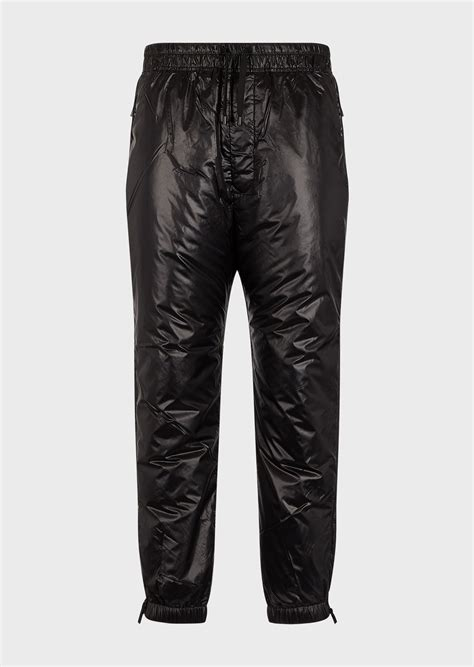nylon: (130, 42, 350, 625)
